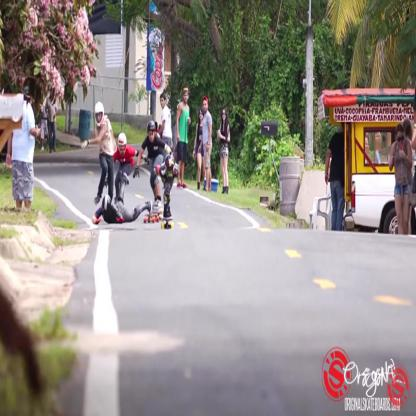Fall_Down: (91, 169, 154, 228)
